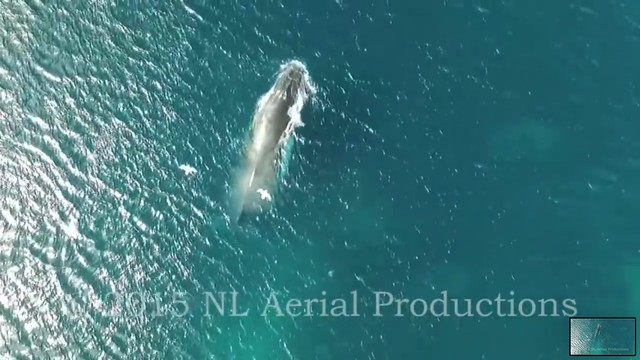whale: (213, 51, 319, 263)
